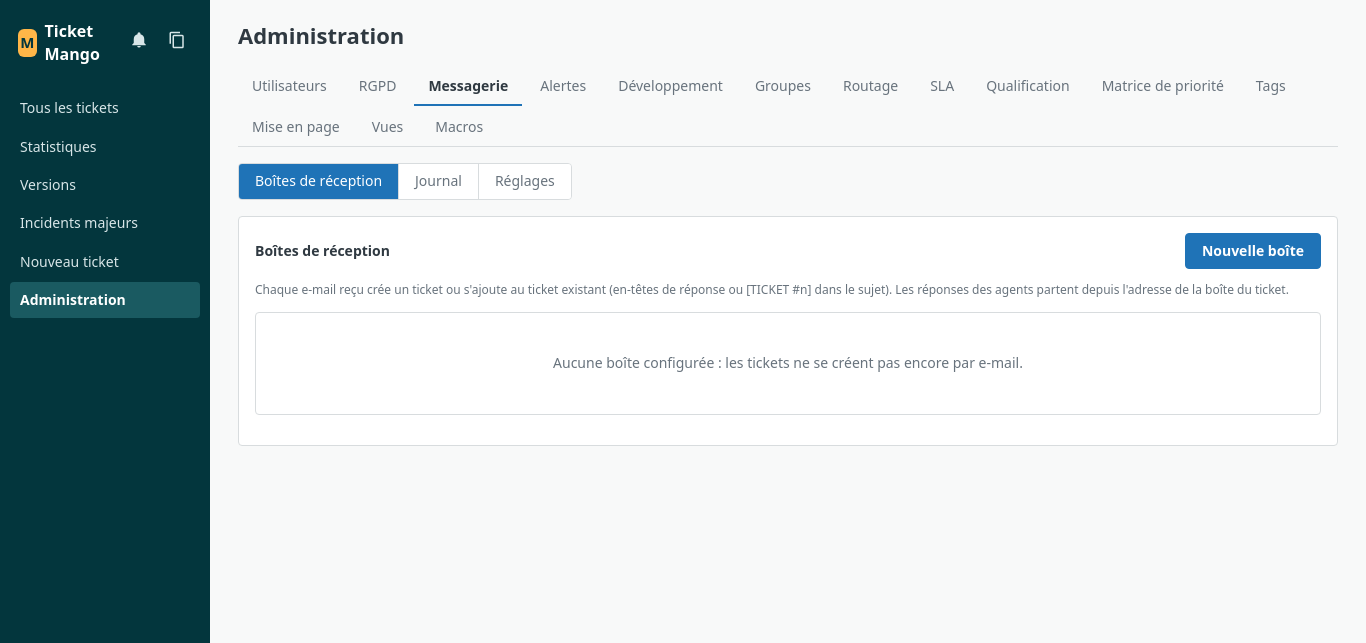
administration de la messagerie › préremplit Gmail et signale une adresse saisie comme serveur
Click the button "Nouvelle boîte" at {"x": 1253, "y": 251}, box [1185,233,1321,269]
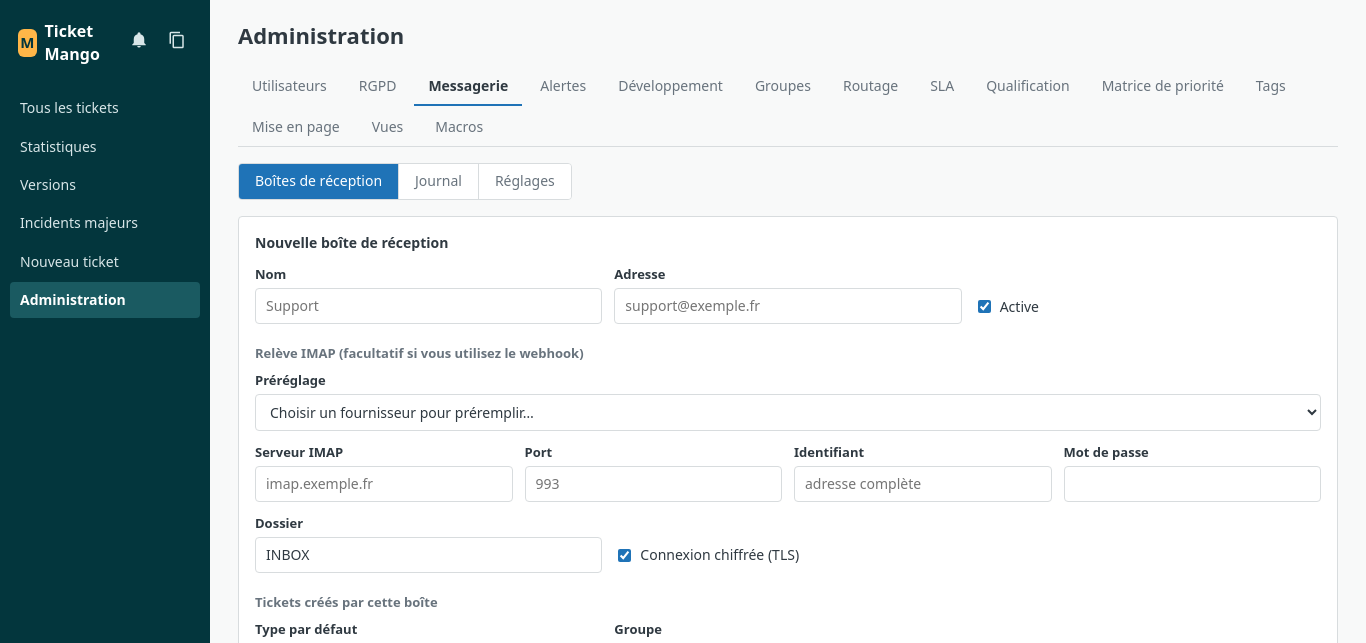
Type "moi@gmail.com" into the field labelled "Adresse" at {"x": 788, "y": 306}, box [614,288,962,324]
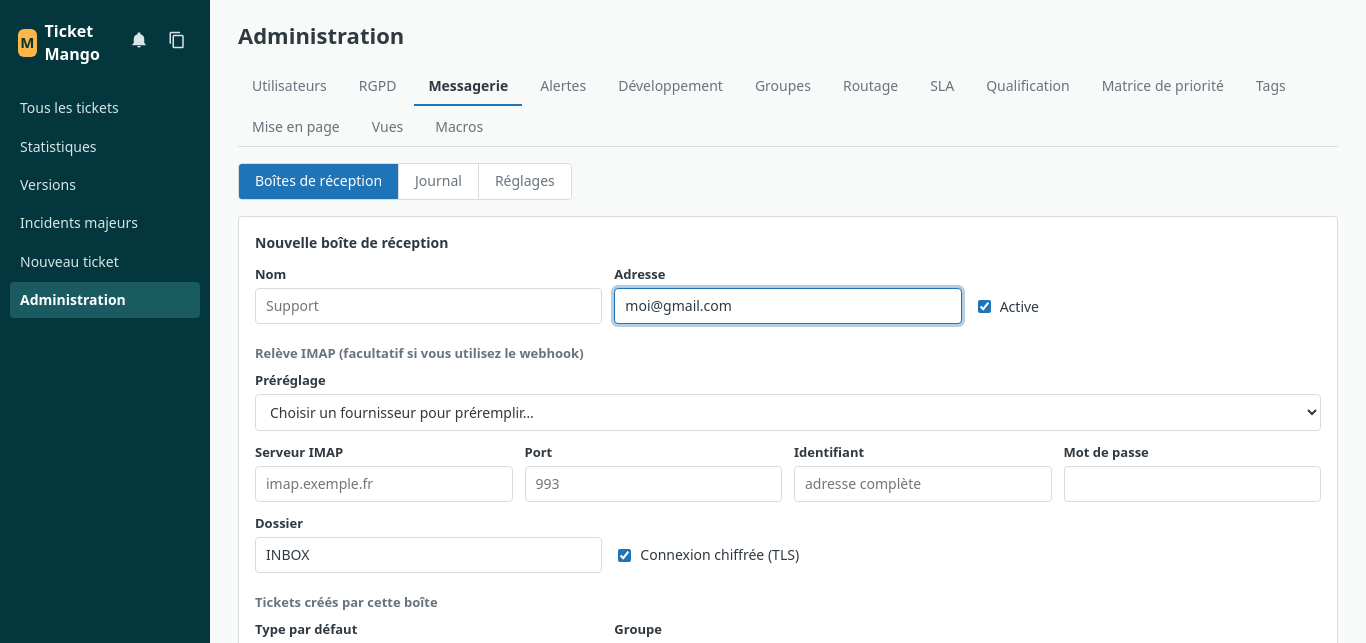
Type "moi@gmail.com" into the field labelled "Serveur IMAP" at {"x": 384, "y": 484}, box [255,466,512,502]
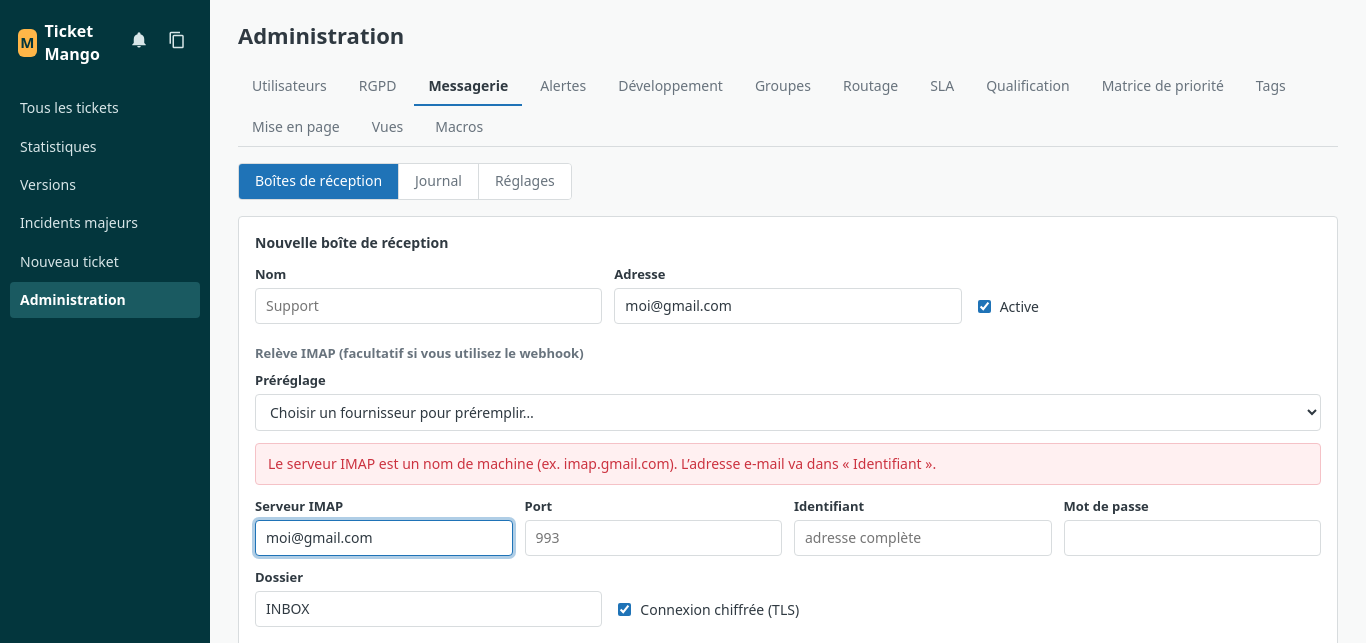
Expected: the text "L’adresse e-mail va dans « Identifiant »" is shown, [268,454,936,473]
Select "Gmail / Google Workspace" in the dropdown labelled "Préréglage" at {"x": 788, "y": 412}, box [255,394,1321,431]
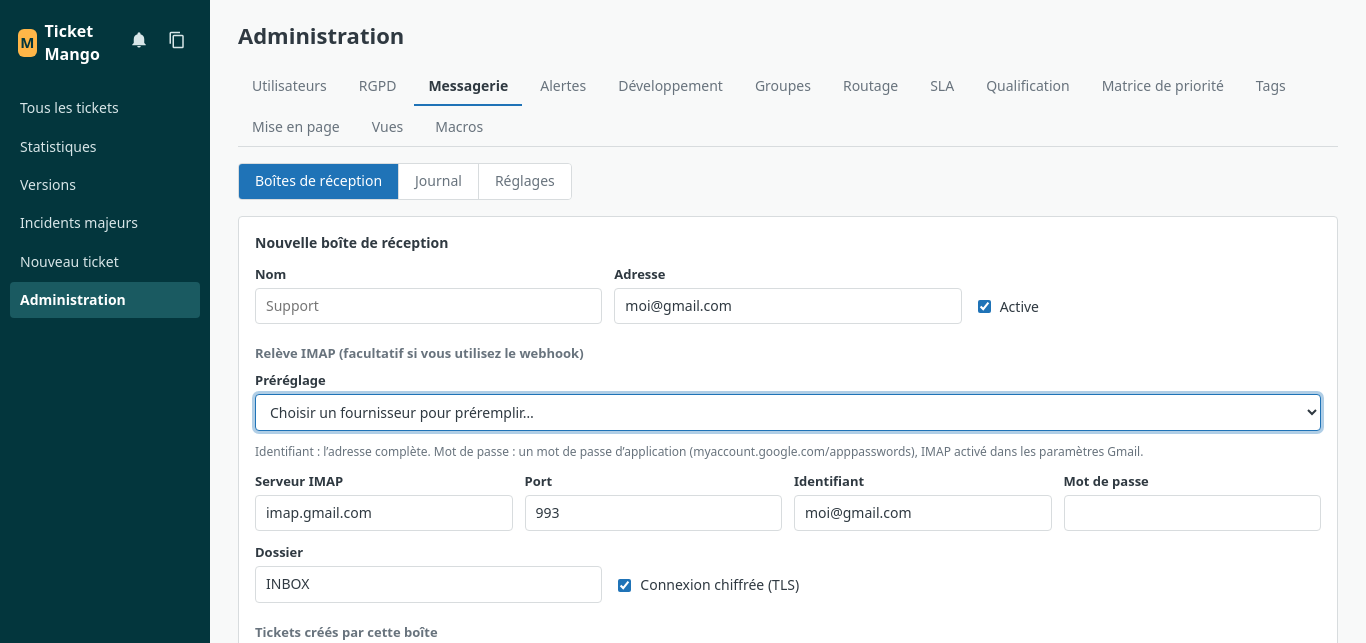
Expected: the field labelled "Serveur IMAP" holds "imap.gmail.com", [255,495,512,531]
Expected: the field labelled "Identifiant" holds "moi@gmail.com", [794,495,1052,531]
Expected: the text "mot de passe d’application" is shown, [255,443,1143,460]
